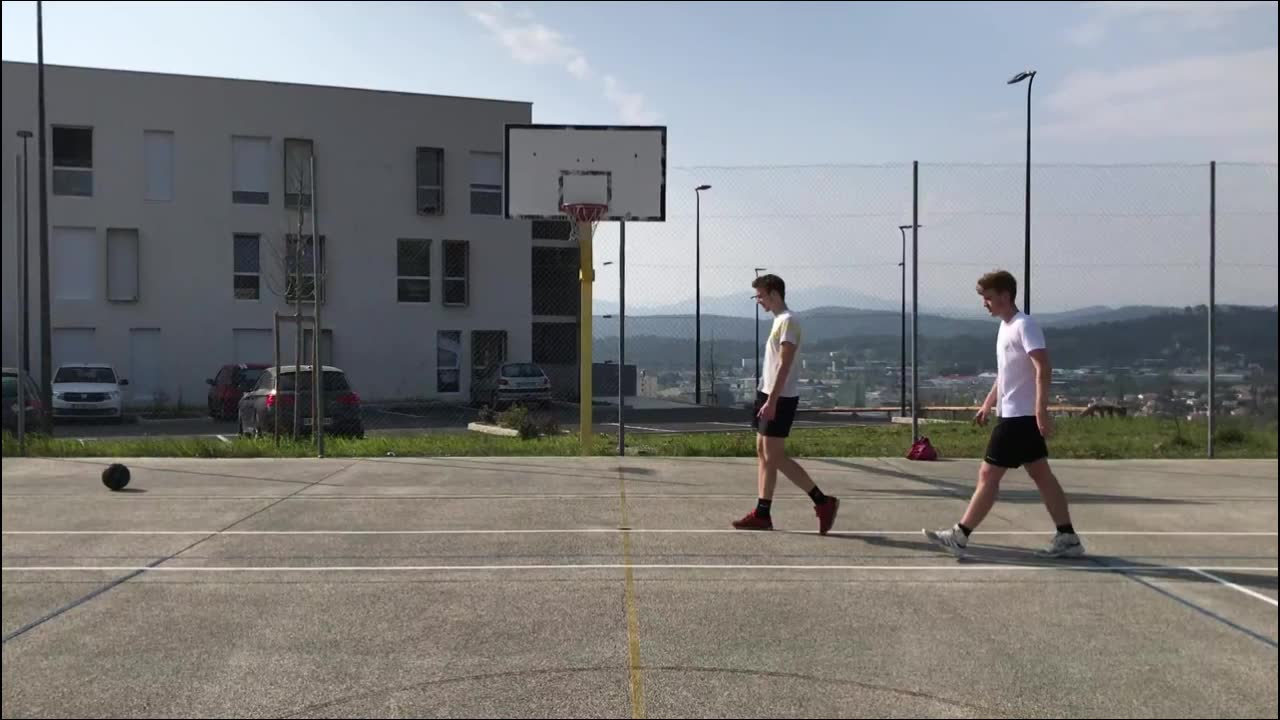jugador: (718, 262, 849, 551)
